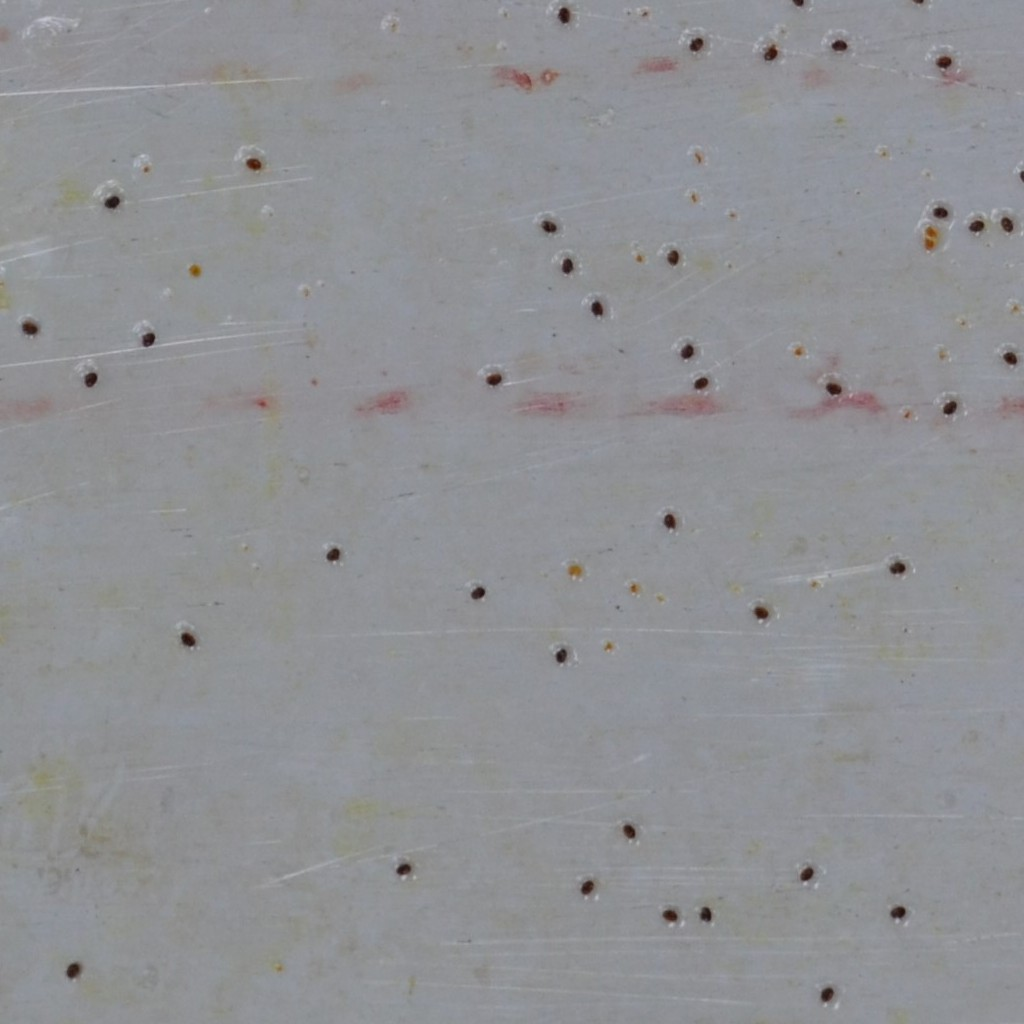varroa: (242, 153, 266, 176), (536, 218, 564, 237), (750, 601, 770, 627), (886, 899, 909, 921), (797, 859, 815, 887), (657, 905, 680, 926), (662, 508, 679, 536), (690, 370, 709, 395), (588, 295, 606, 321), (758, 45, 782, 64), (177, 626, 197, 647), (467, 582, 486, 604), (578, 875, 596, 898), (621, 819, 638, 843), (888, 558, 908, 578), (394, 859, 414, 879), (823, 378, 842, 399), (20, 317, 39, 338), (677, 340, 695, 362), (697, 903, 715, 925), (81, 369, 100, 389), (322, 545, 342, 564), (552, 645, 570, 666), (102, 193, 124, 210), (138, 327, 155, 349), (819, 982, 836, 1004), (829, 36, 852, 52), (687, 37, 707, 55), (483, 370, 503, 388), (559, 255, 575, 277), (941, 398, 959, 417), (933, 51, 953, 68), (555, 5, 572, 25), (665, 247, 682, 267), (930, 204, 950, 221), (1001, 349, 1018, 369), (964, 220, 988, 234), (999, 215, 1015, 235), (65, 961, 80, 981), (789, 0, 809, 7)
